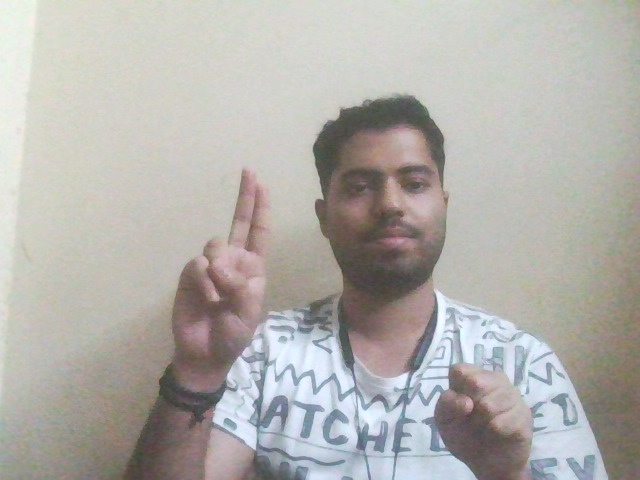Z: (152, 157, 293, 369)
